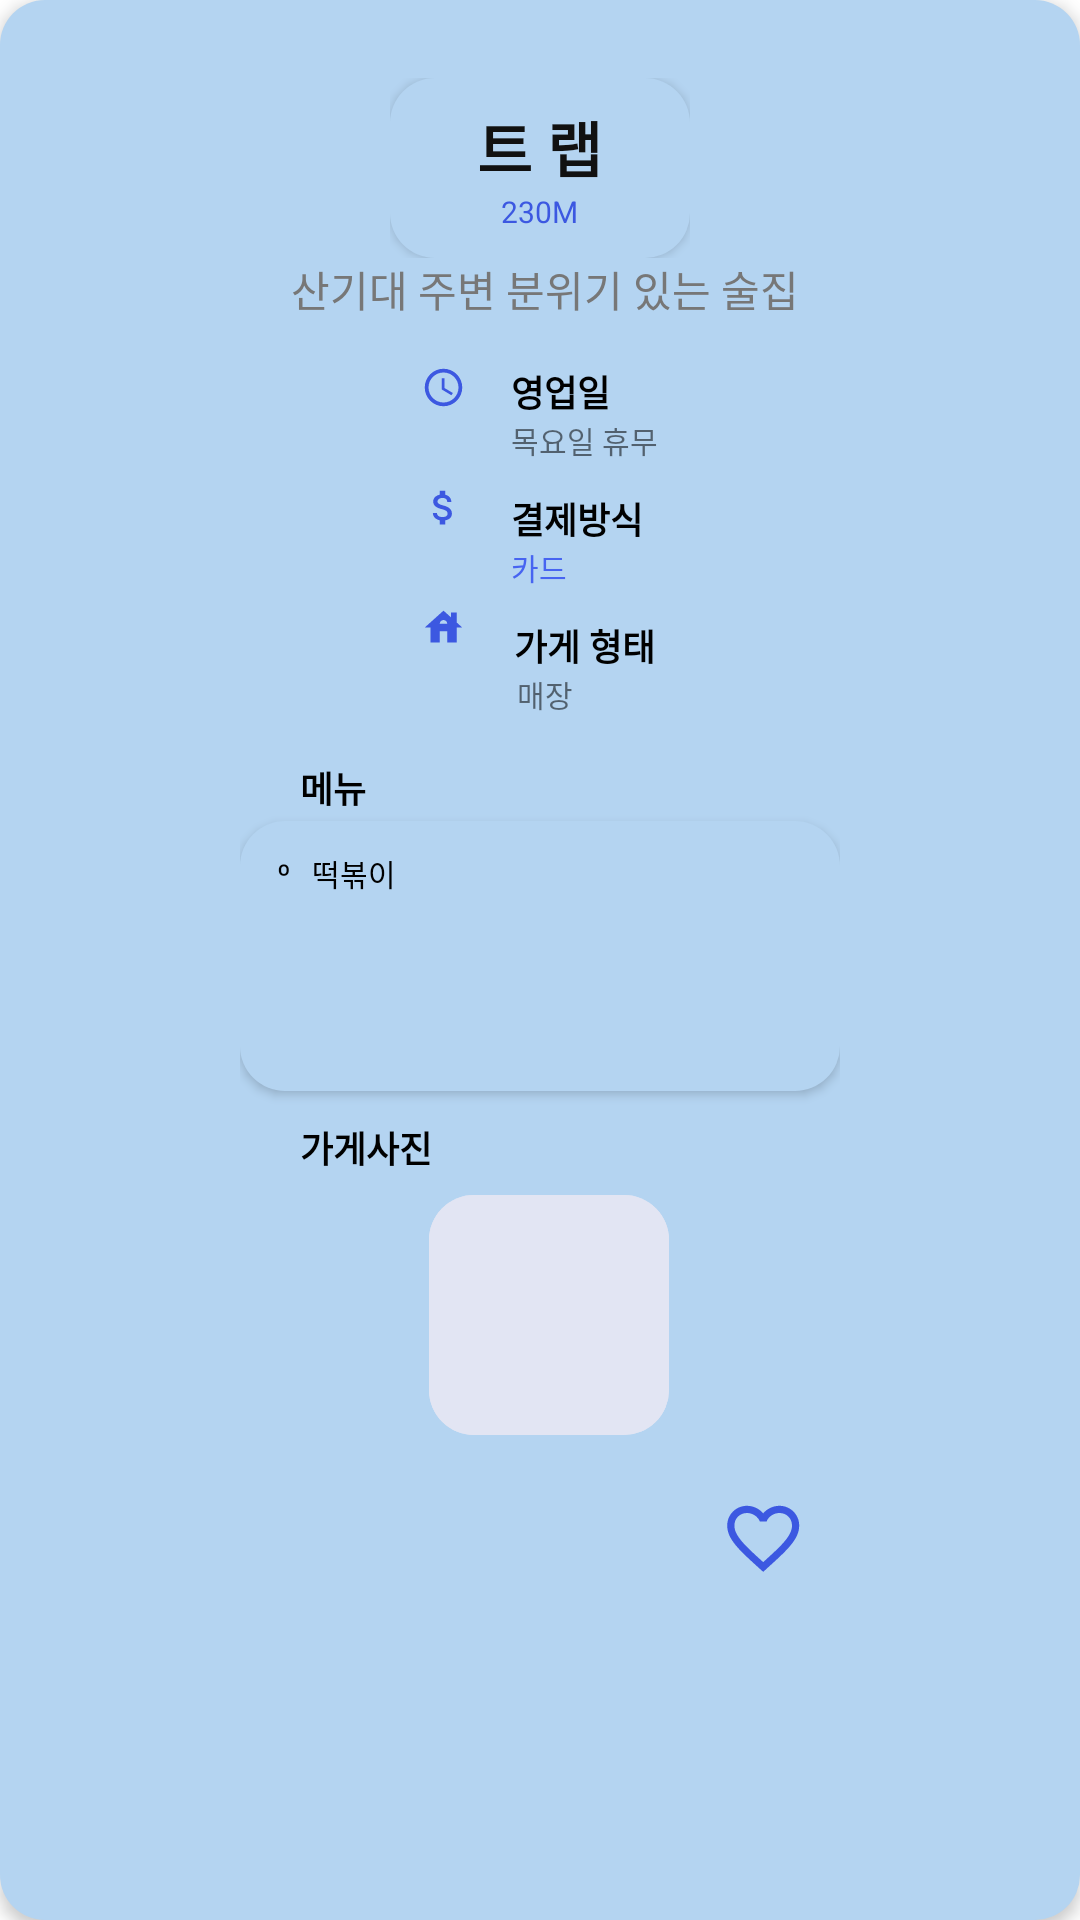

Locate icon controls on the screen. Image size 1080×1920, boxes as {"x1": x1, "y1": y1, "x2": x2, "y2": y2}.
house: {"x1": 425, "y1": 611, "x2": 462, "y2": 643}
money: {"x1": 433, "y1": 490, "x2": 452, "y2": 525}
time: {"x1": 424, "y1": 368, "x2": 463, "y2": 407}
